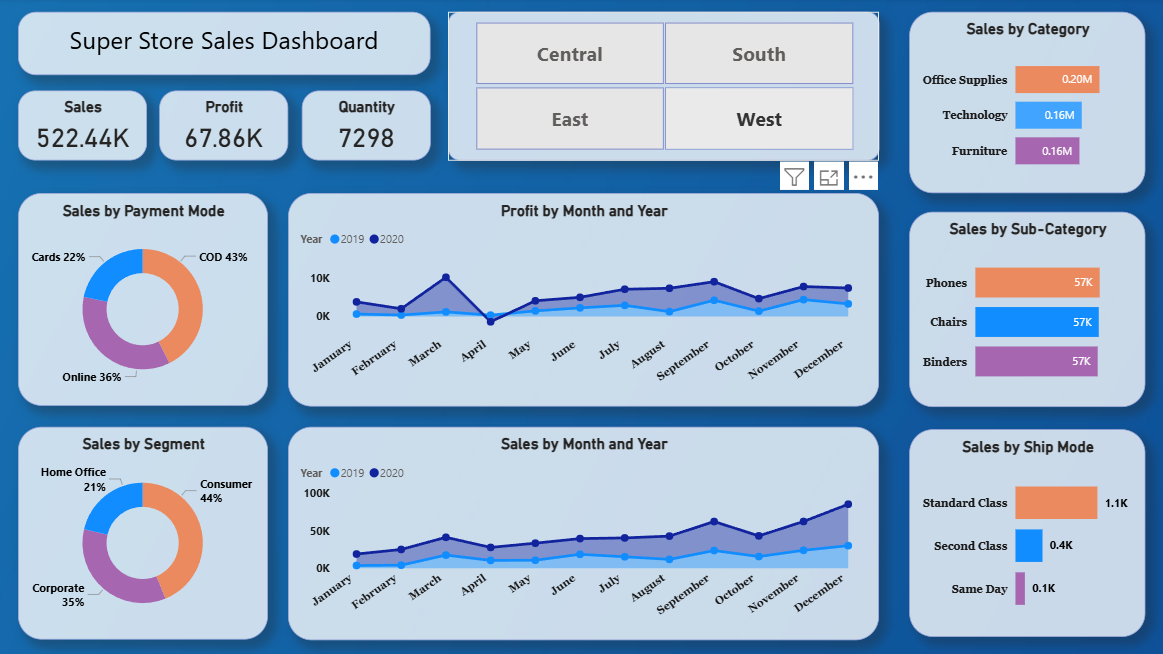

This screenshot's page, from the dashboard's own definition file:
{"tool":"powerbi","page":{"name":"Page 1","canvas":[1280,720],"ordinal":0},"visuals":[{"type":"clusteredBarChart","title":"Sales by Category","fields":{"Category":["SuperStore_Sales_Dataset.Category"],"Y":["Sum(SuperStore_Sales_Dataset.Sales)"]},"box":[1000.3,15.1,259.3,199],"z":0},{"type":"clusteredBarChart","title":"Sales by Sub-Category","fields":{"Category":["SuperStore_Sales_Dataset.Sub-Category"],"Y":["Sum(SuperStore_Sales_Dataset.Sales)"]},"box":[1000.3,234.6,259.3,214.1],"z":1000},{"type":"clusteredBarChart","title":"Sales by Ship Mode","fields":{"Y":["CountNonNull(SuperStore_Sales_Dataset.Ship Mode)"],"Category":["SuperStore_Sales_Dataset.Ship Mode"]},"box":[1000.3,473.4,259.3,227.8],"z":2000},{"type":"stackedAreaChart","title":"Sales by Month and Year","fields":{"Y":["Sum(SuperStore_Sales_Dataset.Sales)"],"Category":["SuperStore_Sales_Dataset.Order Date.Variation.Date Hierarchy.Month"],"Series":["SuperStore_Sales_Dataset.Order Date.Variation.Date Hierarchy.Year"]},"box":[318.4,470.7,649.1,234.6],"z":3000},{"type":"stackedAreaChart","title":"Profit by Month and Year","fields":{"Category":["SuperStore_Sales_Dataset.Order Date.Variation.Date Hierarchy.Month"],"Series":["SuperStore_Sales_Dataset.Order Date.Variation.Date Hierarchy.Year"],"Y":["Sum(SuperStore_Sales_Dataset.Profit)"]},"box":[318.4,214.1,649.1,234.6],"z":4000},{"type":"donutChart","title":"Sales by Segment","fields":{"Category":["SuperStore_Sales_Dataset.Segment"],"Y":["Sum(SuperStore_Sales_Dataset.Sales)"]},"box":[22,470.7,274.4,233.3],"z":5000},{"type":"donutChart","title":"Sales by Payment Mode","fields":{"Y":["Sum(SuperStore_Sales_Dataset.Sales)"],"Category":["SuperStore_Sales_Dataset.Payment Mode"]},"box":[22,214.1,274.4,233.3],"z":6000},{"type":"slicer","fields":{"Values":["SuperStore_Sales_Dataset.Region"]},"box":[494,15.1,473.4,163.3],"z":7000},{"type":"textbox","box":[22,15.1,452.8,70],"z":8000},{"type":"card","title":"Sales","fields":{"Values":["Sum(SuperStore_Sales_Dataset.Sales)"]},"box":[22,101.5,141.3,76.8],"z":9000},{"type":"card","title":"Profit","fields":{"Values":["Sum(SuperStore_Sales_Dataset.Profit)"]},"box":[177,101.5,141.3,76.8],"z":10000},{"type":"card","title":"Quantity","fields":{"Values":["Sum(SuperStore_Sales_Dataset.Quantity)"]},"box":[333.4,101.5,141.3,76.8],"z":11000}]}

Visuals, with their boxes in screenshot pixels (x1, y1, x2, y2), scaled from the page's 1280x720 canvas onto the 1163x654 screenshot:
"Sales by Category" clusteredBarChart: bbox(909, 14, 1144, 194)
"Sales by Sub-Category" clusteredBarChart: bbox(909, 213, 1144, 408)
"Sales by Ship Mode" clusteredBarChart: bbox(909, 430, 1144, 637)
"Sales by Month and Year" stackedAreaChart: bbox(289, 428, 879, 641)
"Profit by Month and Year" stackedAreaChart: bbox(289, 194, 879, 408)
"Sales by Segment" donutChart: bbox(20, 428, 269, 639)
"Sales by Payment Mode" donutChart: bbox(20, 194, 269, 406)
slicer - SuperStore_Sales_Dataset.Region: bbox(449, 14, 879, 162)
textbox: bbox(20, 14, 431, 77)
"Sales" card: bbox(20, 92, 148, 162)
"Profit" card: bbox(161, 92, 289, 162)
"Quantity" card: bbox(303, 92, 431, 162)
